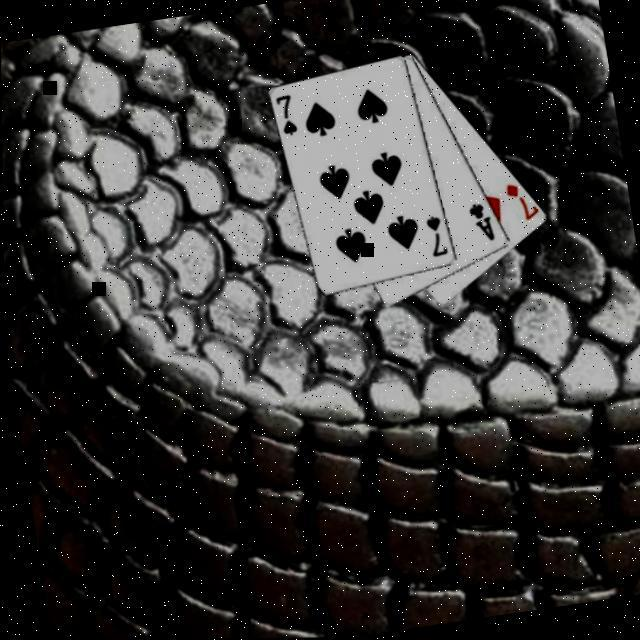7D: (500, 176, 540, 224)
7S: (420, 210, 449, 259), (271, 90, 300, 139)
AC: (462, 198, 495, 245)
